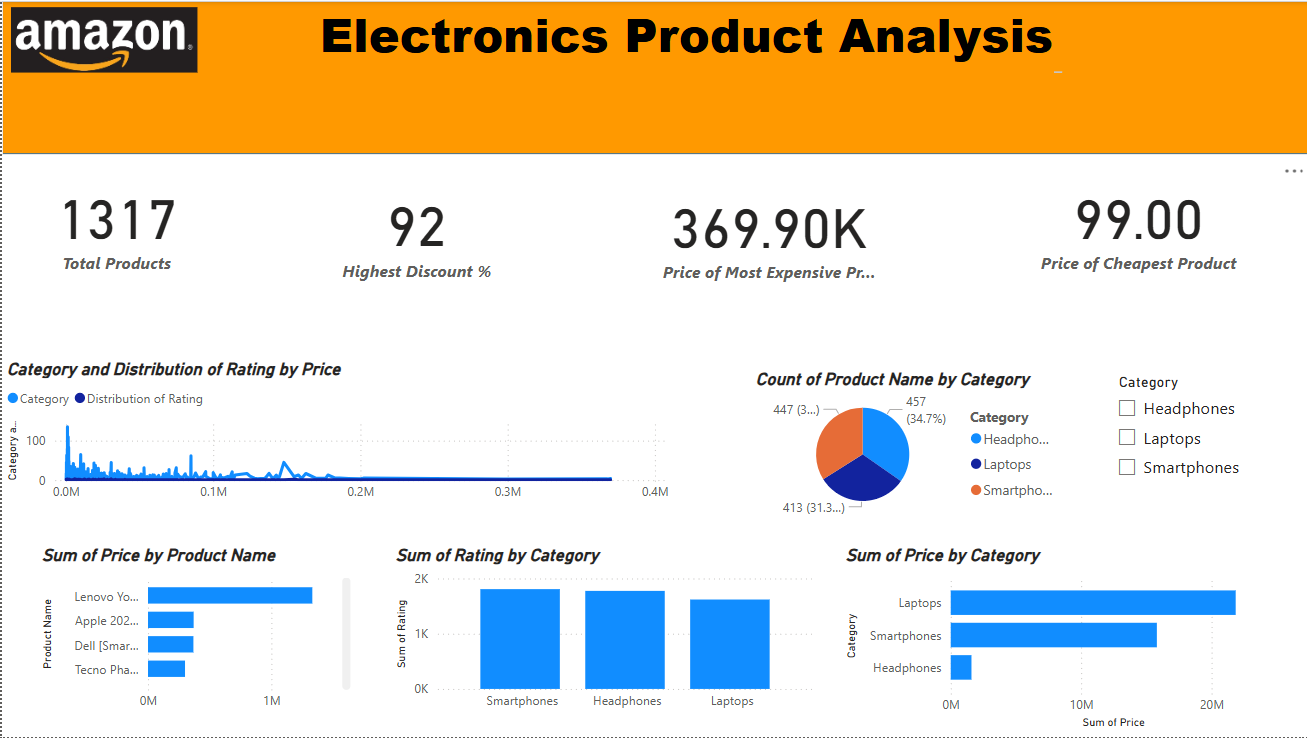

This screenshot's page, from the dashboard's own definition file:
{"tool":"powerbi","page":{"name":"Page 1","canvas":[1280,720],"ordinal":0},"visuals":[{"type":"barChart","fields":{"Y":["Sum(amazon_products1_cleaned.Price)"],"Category":["amazon_products1_cleaned.Category"]},"box":[820,532.5,443.8,185],"z":0},{"type":"columnChart","fields":{"Category":["amazon_products1_cleaned.Category"],"Y":["Sum(amazon_products1_cleaned.Rating)"]},"box":[380,532.5,421.2,171.2],"z":1000},{"type":"clusteredBarChart","fields":{"Category":["amazon_products1_cleaned.Product Name"],"Y":["Sum(amazon_products1_cleaned.Price)"]},"box":[34.2,531.9,311.8,171.2],"z":2000},{"type":"card","fields":{"Values":["CountNonNull(amazon_products1_cleaned.Product Name)"]},"box":[0,150.4,225,134.5],"z":3000},{"type":"card","fields":{"Values":["Max(amazon_products1_cleaned.Discounts)"]},"box":[297.1,150.4,217.7,149.2],"z":4000},{"type":"card","fields":{"Values":["Max(amazon_products1_cleaned.Price)"]},"box":[639.5,151.6,222.6,149.2],"z":5000},{"type":"card","fields":{"Values":["Min(amazon_products1_cleaned.Price)"]},"box":[959.9,151.6,304.5,132.1],"z":6000},{"type":"shape","box":[0,0,1280,150],"z":7000},{"type":"textbox","title":"Electronics Product Analysis","box":[297.5,0,745,75],"z":8000},{"type":"image","box":[0,1.2,200,73.8],"z":9000},{"type":"pieChart","fields":{"Y":["CountNonNull(amazon_products1_cleaned.Product Name)"],"Series":["amazon_products1_cleaned.Category"]},"box":[732.5,359.5,309.4,149.2],"z":10000},{"type":"lineChart","fields":{"Y":["Sum(amazon_products1_cleaned.Rating)","Count(amazon_products1_cleaned.Category)"],"Category":["amazon_products1_cleaned.Price"]},"box":[0,349.7,657.9,149.2],"z":11000},{"type":"slicer","fields":{"Values":["amazon_products1_cleaned.Category"]},"box":[1079.8,359.5,184.6,128.4],"z":12000}]}

Visuals, with their boxes in screenshot pixels (x1, y1, x2, y2), scaled from the page's 1280x720 canvas onto the 1307x738 screenshot:
barChart - Sum(amazon_products1_cleaned.Price) x amazon_products1_cleaned.Category: {"left": 837, "top": 546, "right": 1290, "bottom": 735}
columnChart - amazon_products1_cleaned.Category x Sum(amazon_products1_cleaned.Rating): {"left": 388, "top": 546, "right": 818, "bottom": 721}
clusteredBarChart - amazon_products1_cleaned.Product Name x Sum(amazon_products1_cleaned.Price): {"left": 35, "top": 545, "right": 353, "bottom": 721}
card - CountNonNull(amazon_products1_cleaned.Product Name): {"left": 0, "top": 154, "right": 230, "bottom": 292}
card - Max(amazon_products1_cleaned.Discounts): {"left": 303, "top": 154, "right": 526, "bottom": 307}
card - Max(amazon_products1_cleaned.Price): {"left": 653, "top": 155, "right": 880, "bottom": 308}
card - Min(amazon_products1_cleaned.Price): {"left": 980, "top": 155, "right": 1291, "bottom": 291}
shape: {"left": 0, "top": 0, "right": 1306, "bottom": 154}
"Electronics Product Analysis" textbox: {"left": 304, "top": 0, "right": 1064, "bottom": 77}
image: {"left": 0, "top": 1, "right": 204, "bottom": 77}
pieChart - CountNonNull(amazon_products1_cleaned.Product Name) x amazon_products1_cleaned.Category: {"left": 748, "top": 368, "right": 1064, "bottom": 521}
lineChart - Sum(amazon_products1_cleaned.Rating) x Count(amazon_products1_cleaned.Category): {"left": 0, "top": 358, "right": 672, "bottom": 511}
slicer - amazon_products1_cleaned.Category: {"left": 1103, "top": 368, "right": 1291, "bottom": 500}
